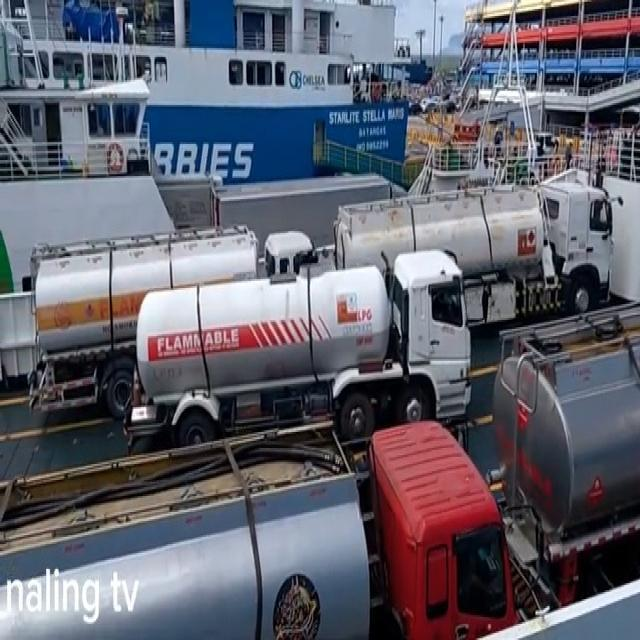truck: (0, 421, 520, 640), (128, 245, 474, 446), (29, 226, 317, 414), (492, 306, 640, 610), (330, 176, 616, 330)
